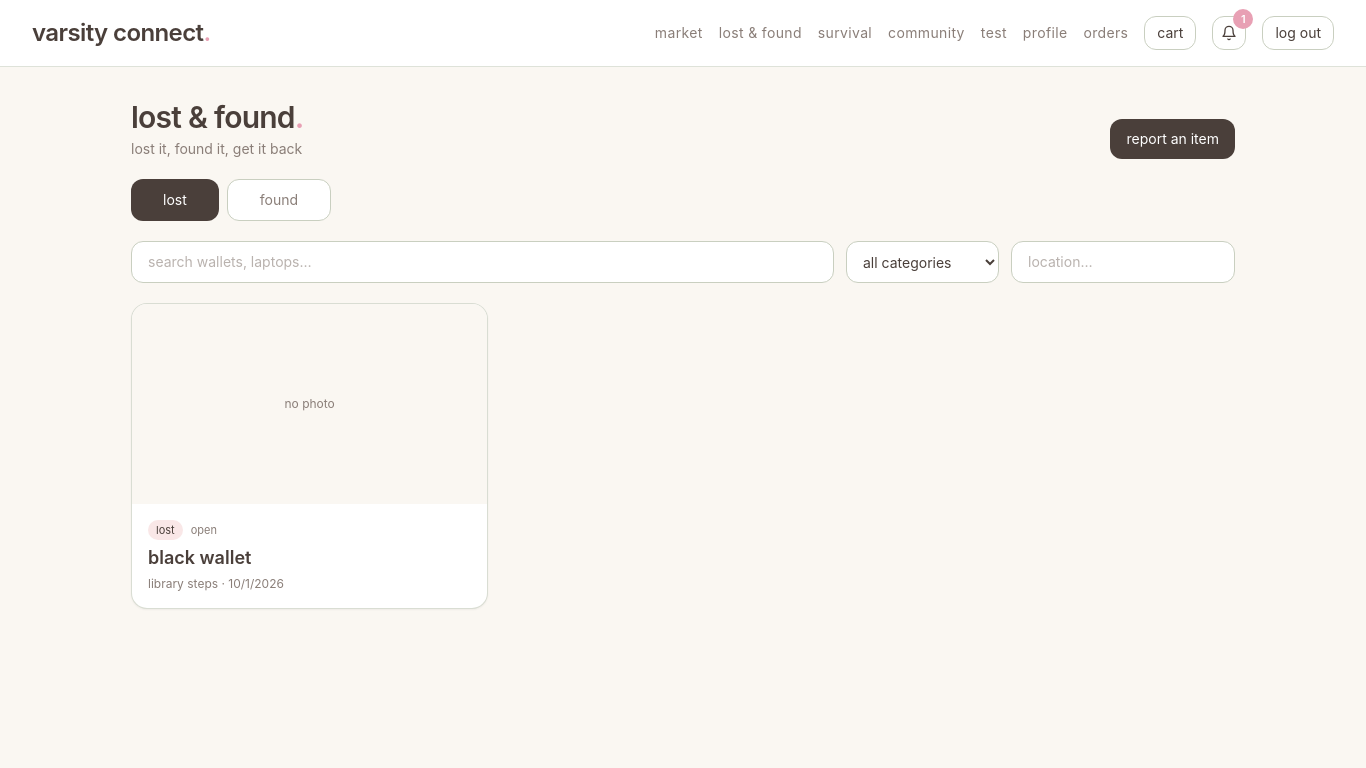
Scenario: lost and found page › searches across names and descriptions
Check: the text "black wallet" is shown, box [148,547,251,568]
Type "laptop" into the search field named "search reports" at (482, 262), box [131,241,834,283]
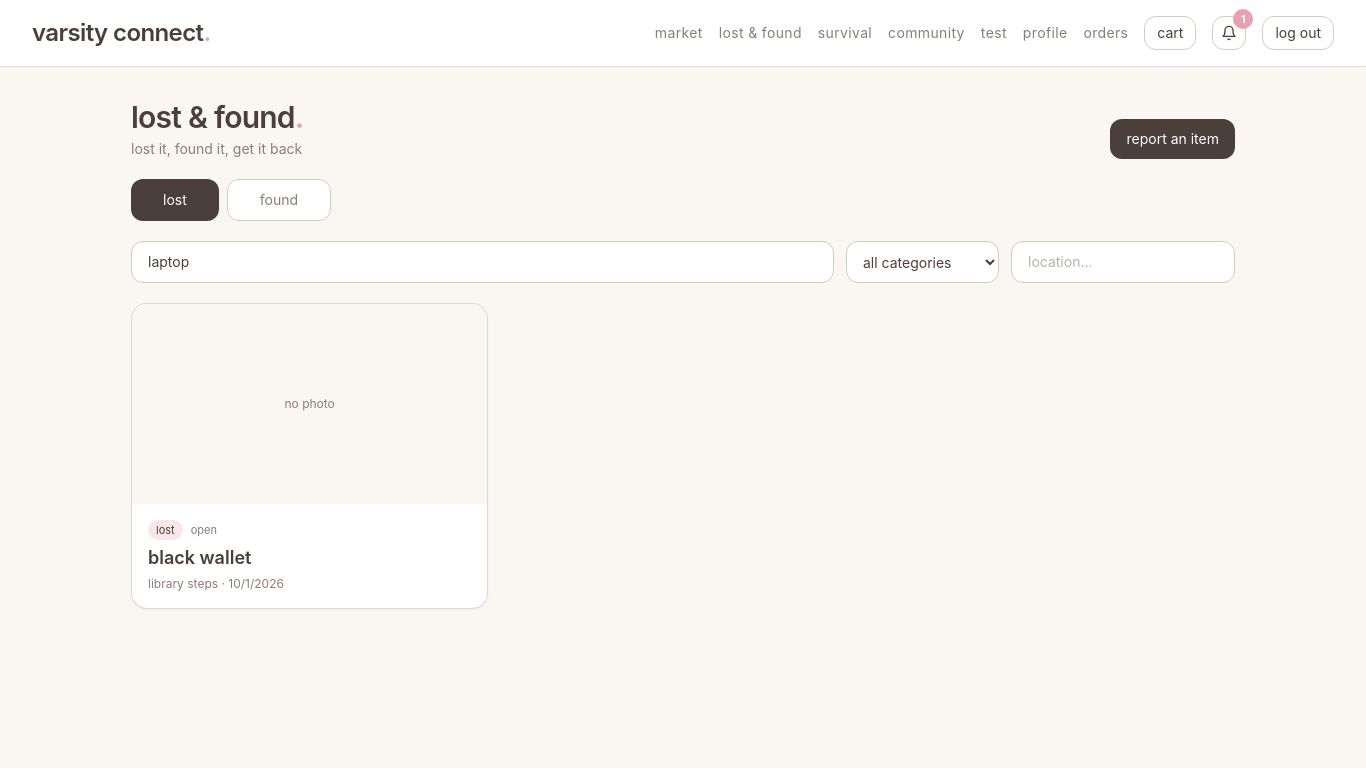
Click the tab "found" at (279, 200), box [227,179,331,221]
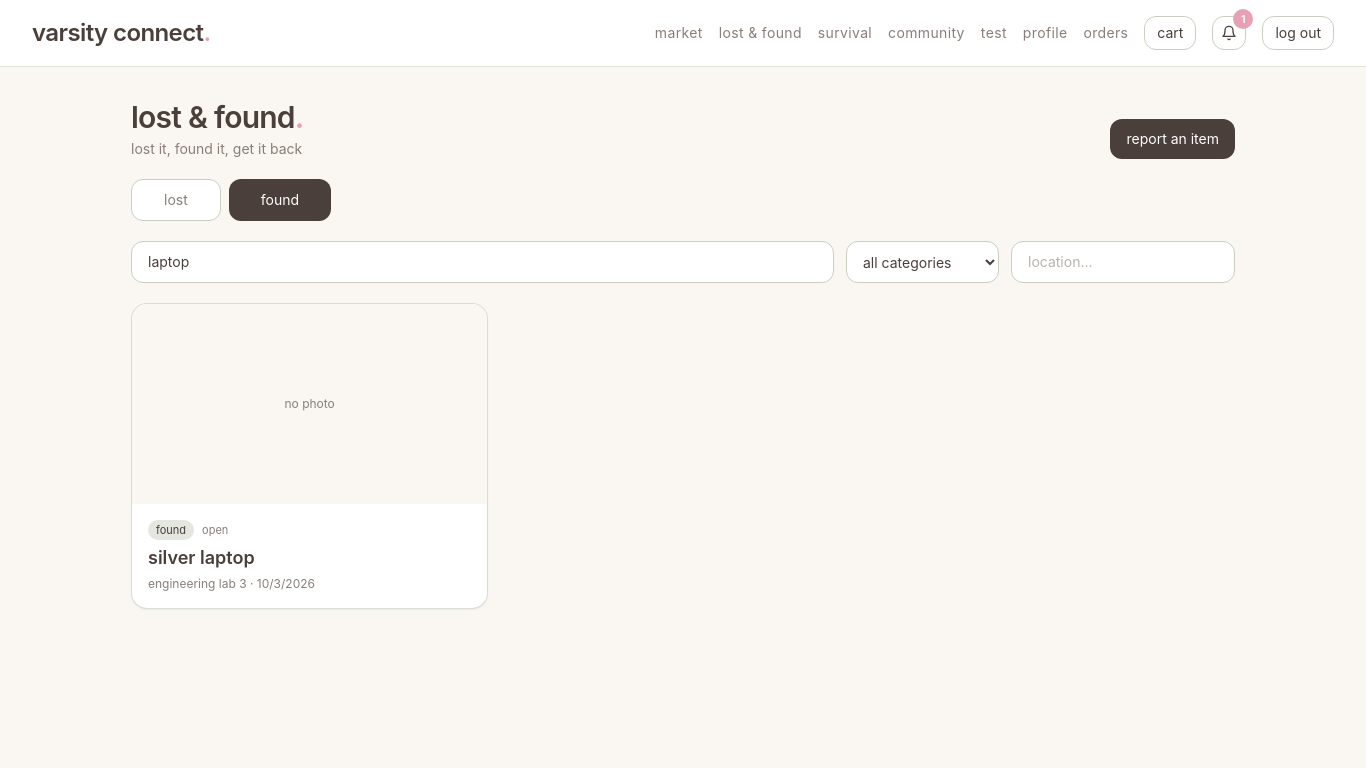
Check: the text "silver laptop" is shown, box [148,547,255,568]
